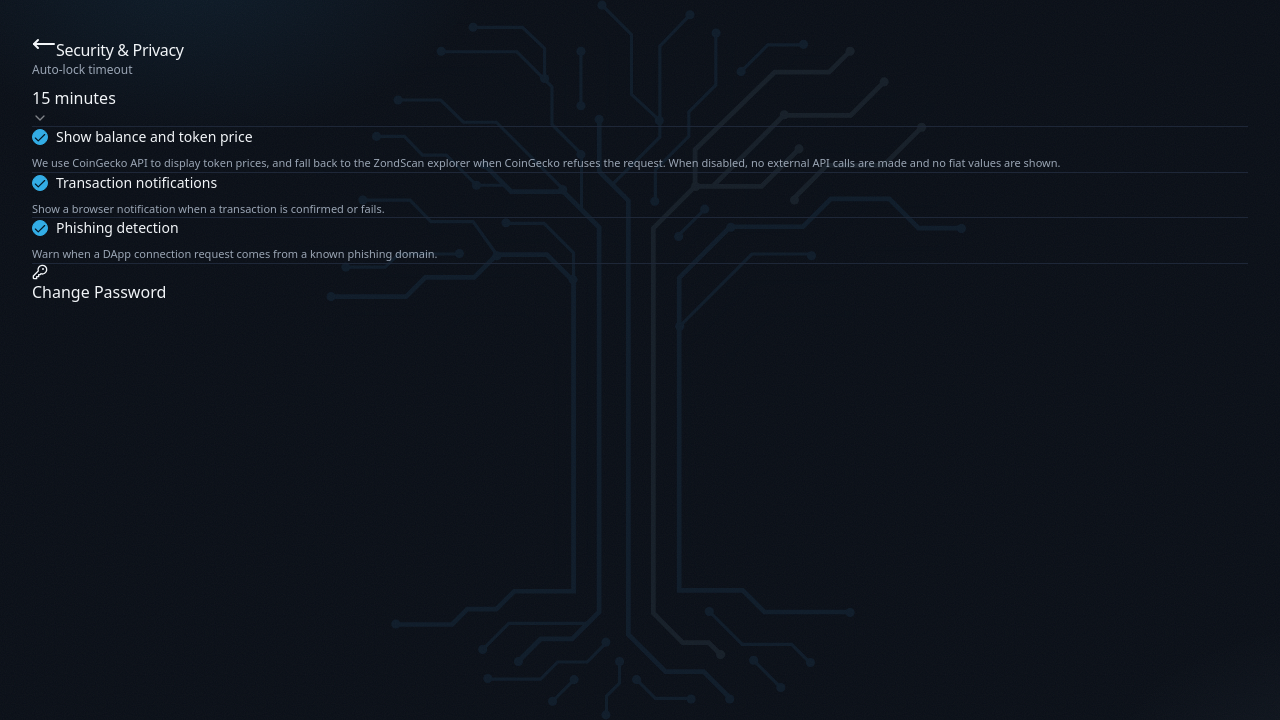
Test case: SettingsSecurity › Change Password › shows an honest 'could not verify' message for a 'failed' result, distinct from a wrong password (N1/N2)
Step 1. Click the button "Change Password" → (99, 284), box [32,264,166,304]
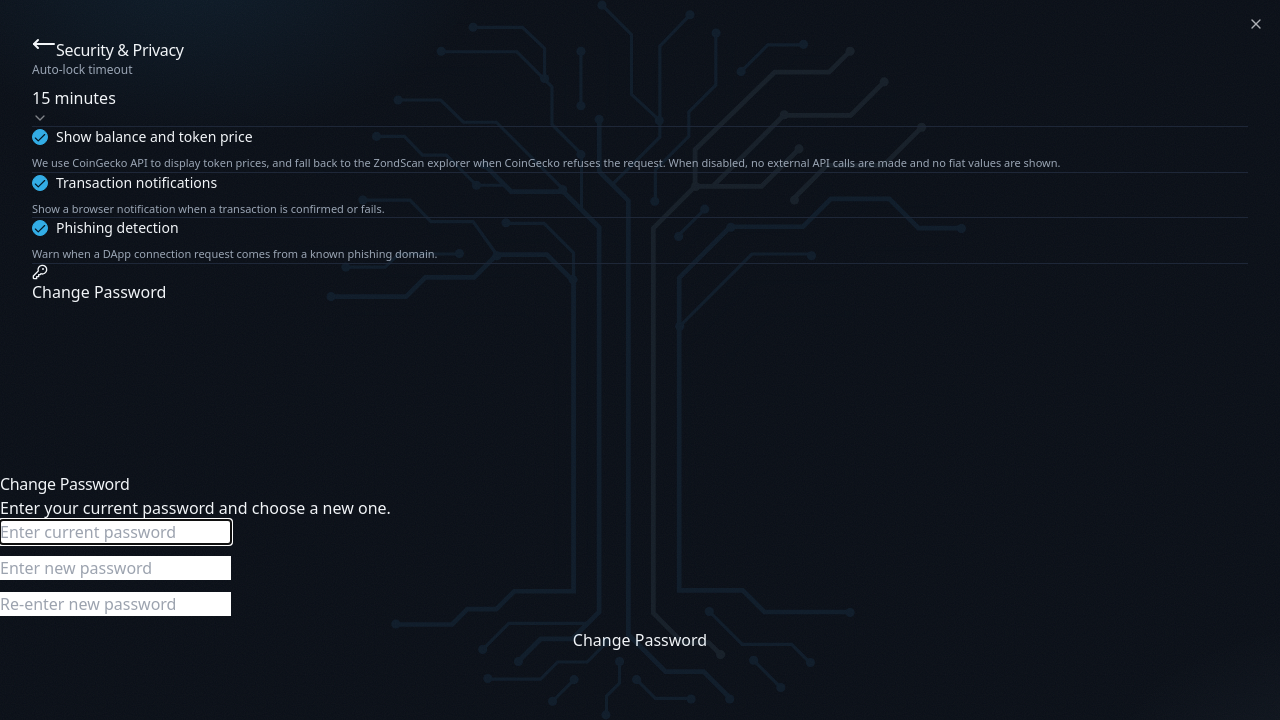
Step 2. Type "oldpass12345" into the password field labelled "current password" → (116, 532), box [0,520,231,544]
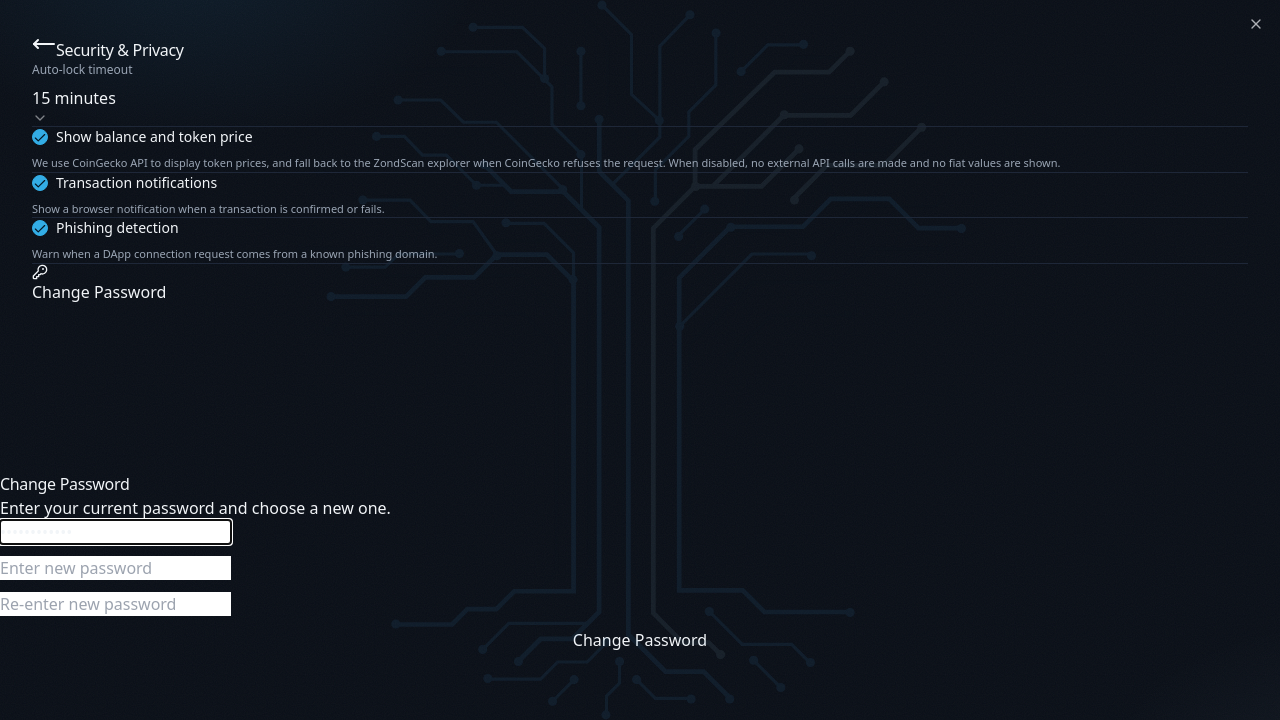
Step 3. Type "newpass12345" into the password field labelled "new password" → (116, 568), box [0,556,231,580]
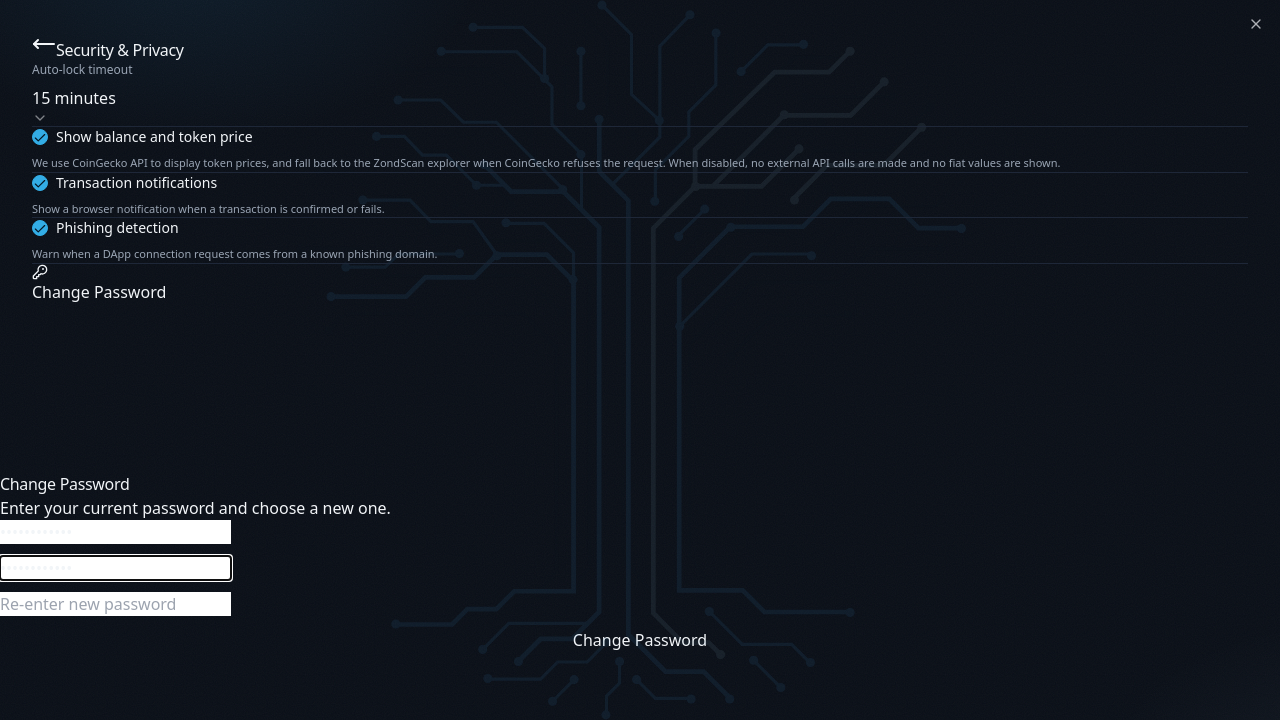
Step 4. Type "newpass12345" into the password field named "Confirm new password" → (116, 604), box [0,592,231,616]
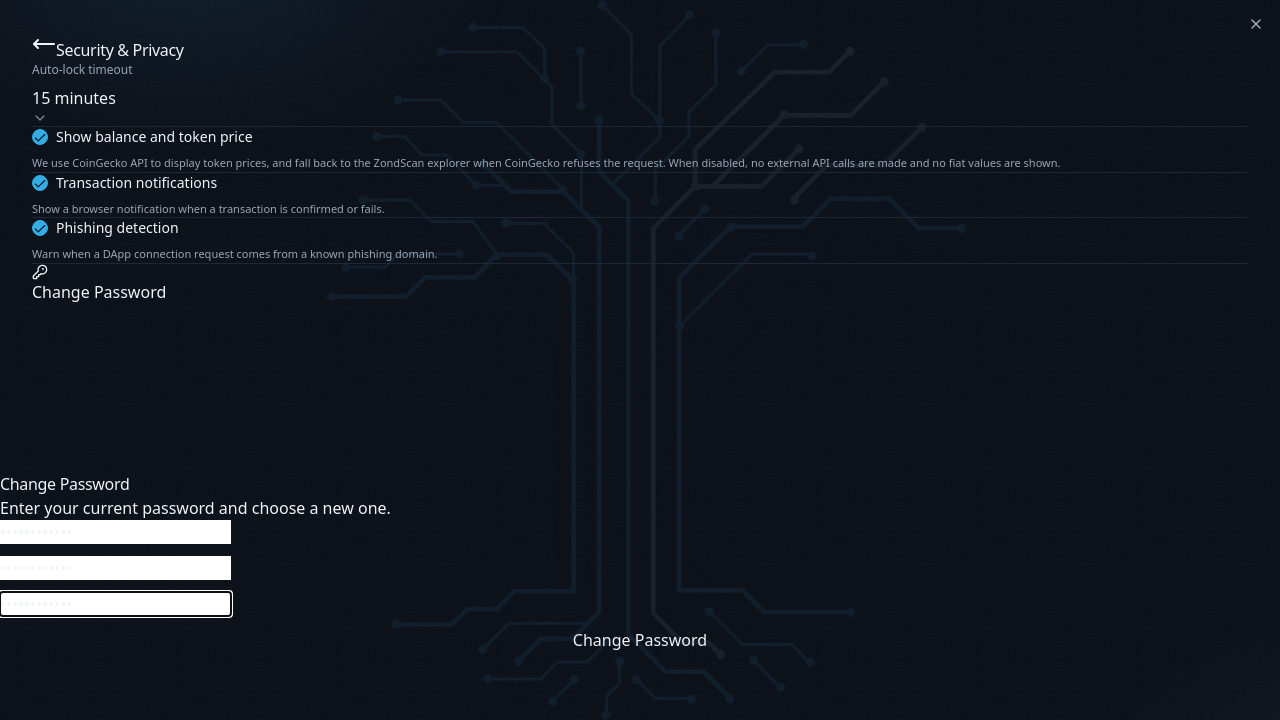
Step 5. Click the 2nd button "Change Password" → (640, 640), box [0,628,1279,652]
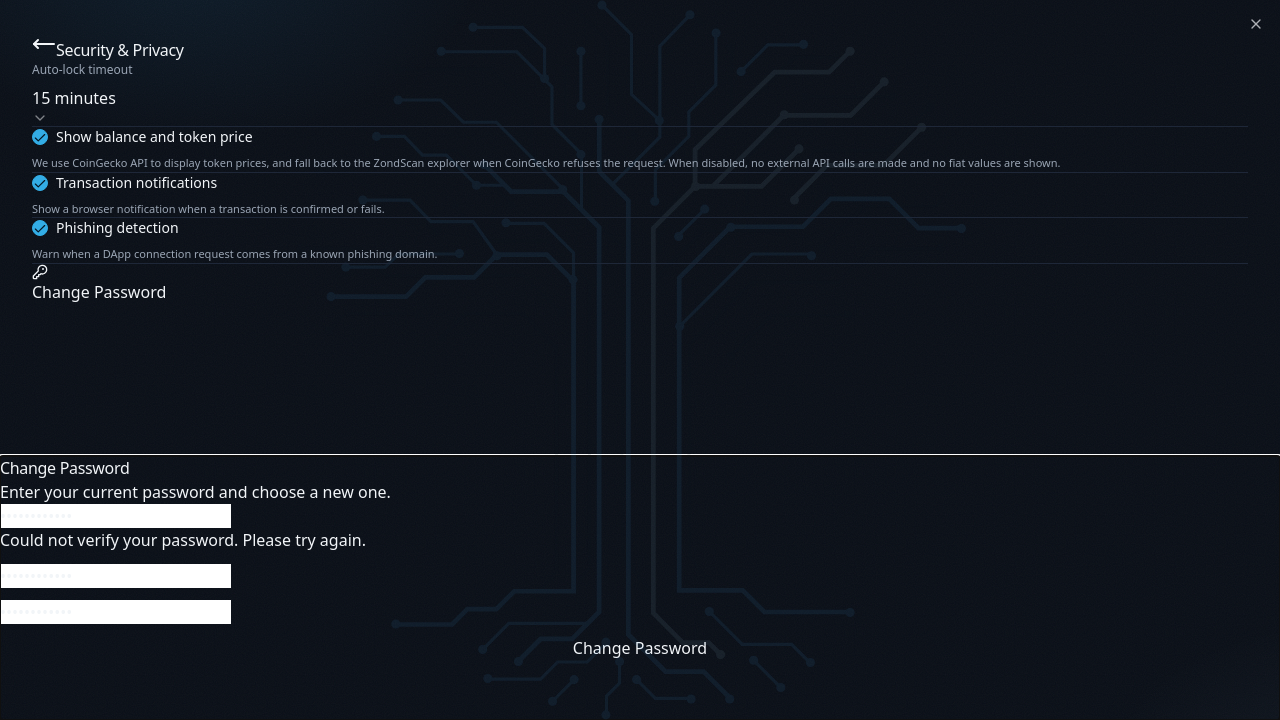
Now the text "Could not verify your password. Please try again." is shown, box [0,529,366,551]
